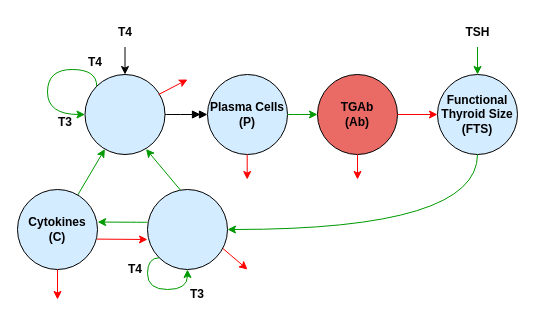
The diagram is 535 pixels wide and 327 high, and some of its shapes have lost their labels. The shapes that lost their labels are listed below. From the top down, each one's centre as x and y in pixels, then its label:
point 124,114: B-Cells (B)
point 187,229: CD4+ T-Cell (T)
